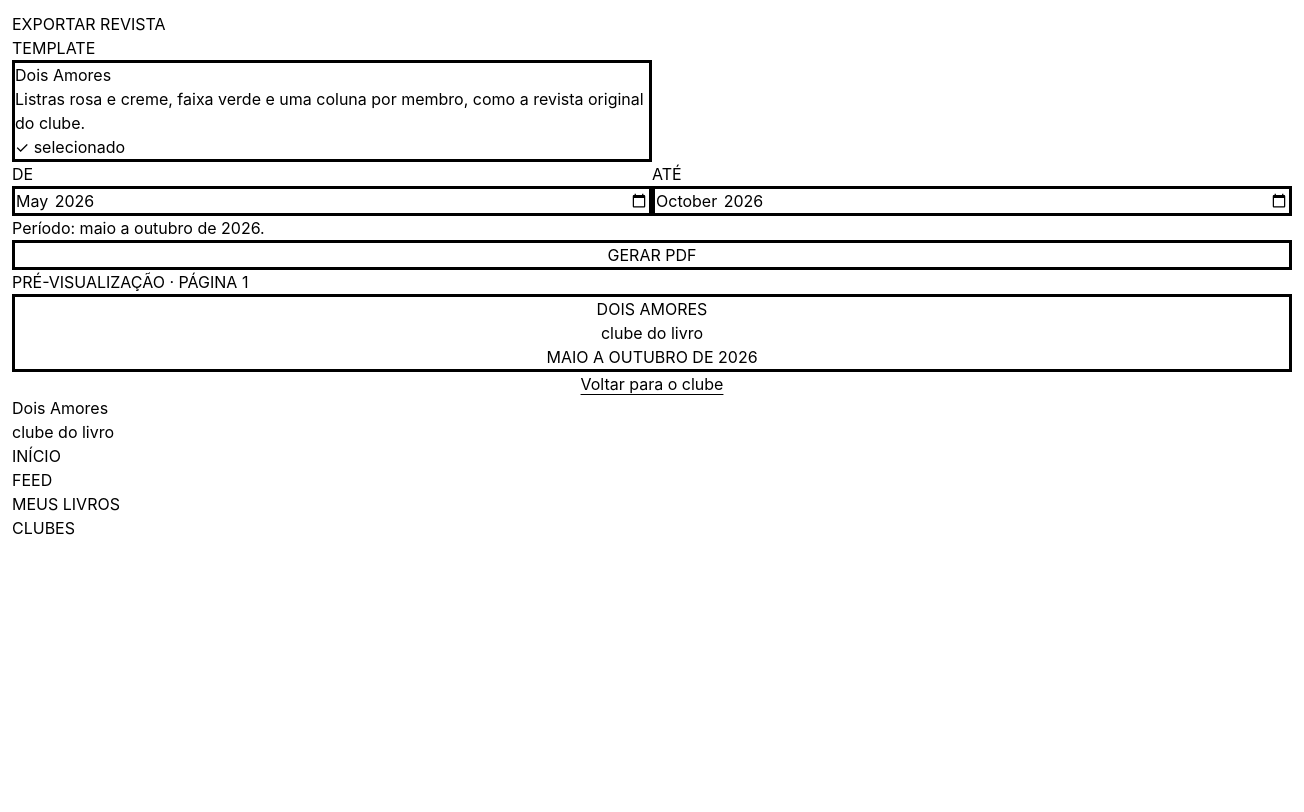
Exportar revista › erro na geração é avisado
Click the button "GERAR PDF" at (652, 255), box [12,240,1292,270]
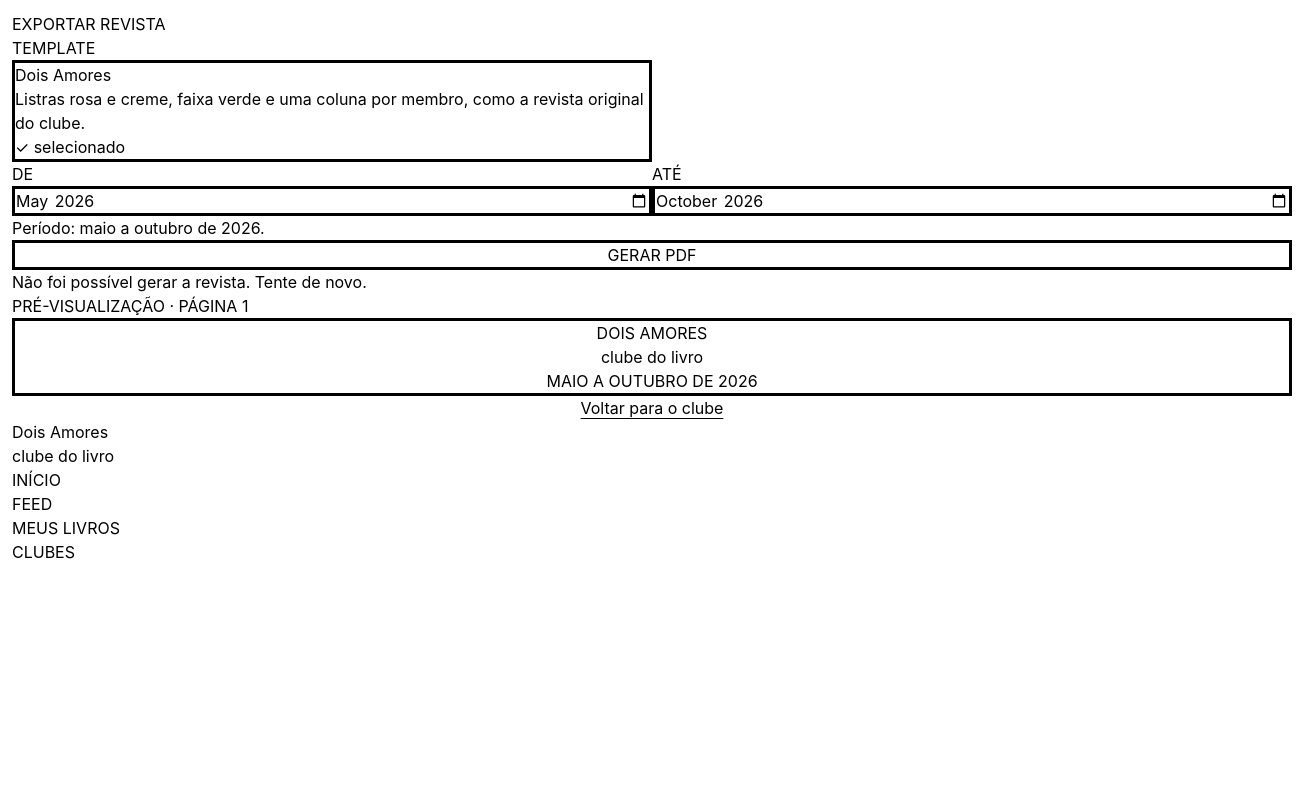
Check: the message shows "Não foi possível gerar a revista", box [12,272,367,292]
